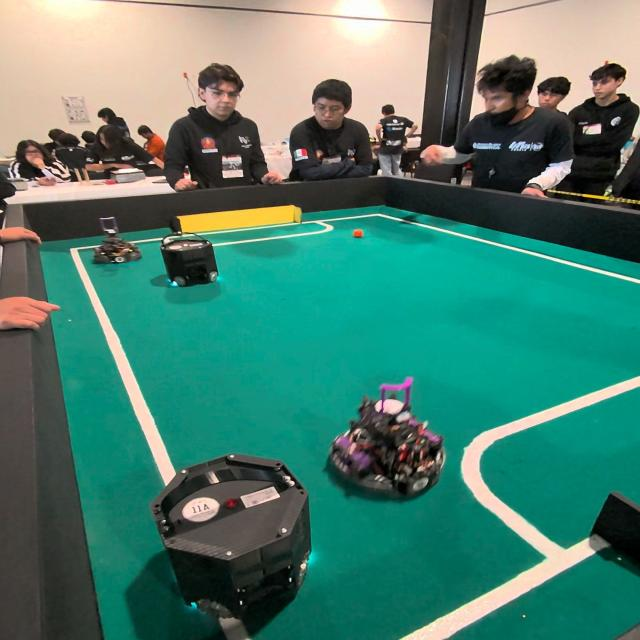Robot: (122, 425, 322, 624), (331, 388, 454, 508), (158, 218, 226, 302), (90, 213, 140, 267)
pelota: (338, 219, 380, 247)
